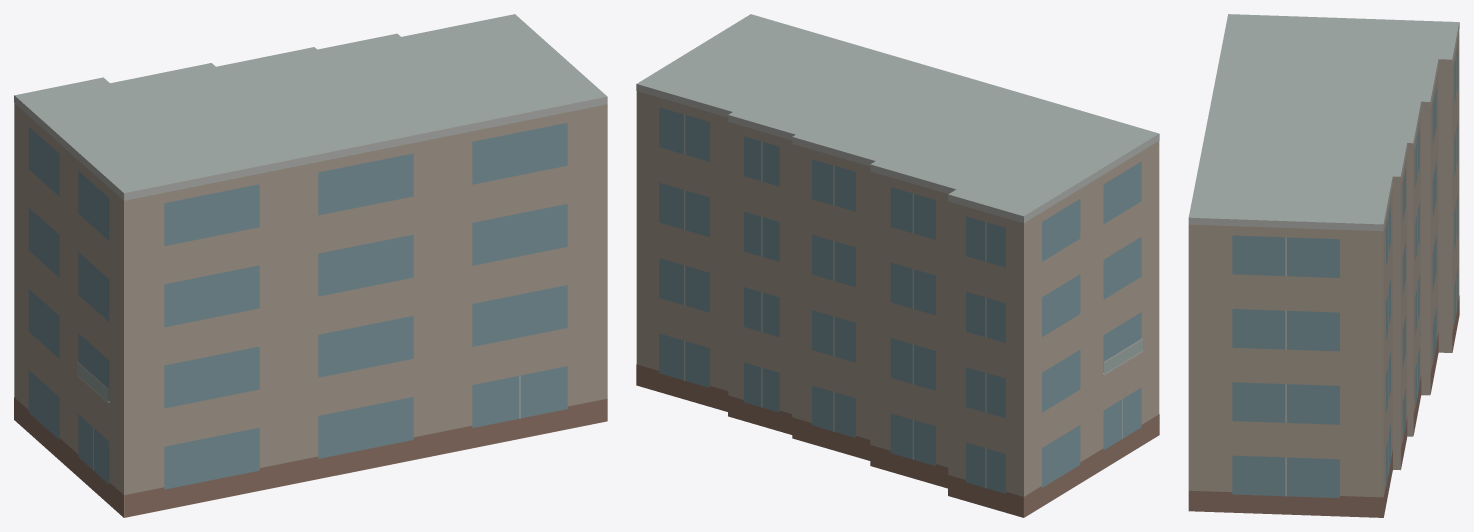
File: survey-upis-32920061.glb
3 renders of one model, left to right at view 1: azimuth 30°, elevation 25°; view 2: azimuth 150°, elevation 25°; view 3: azimuth 270°, elevation 25°, orthographic. The views are drawn at different scales.
Parts seen in each view (by area): view 1: survey-upis-32920061.tmp; view 2: survey-upis-32920061.tmp; view 3: survey-upis-32920061.tmp.
Part boxes in pixels (x1,y1,x2,y2): survey-upis-32920061.tmp: (14, 14, 607, 517); survey-upis-32920061.tmp: (636, 14, 1159, 517); survey-upis-32920061.tmp: (1188, 14, 1459, 517).
Size of the model in its own units: 16.16 by 10.5 by 8.79.
